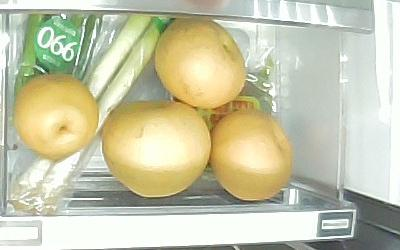pear: (101, 99, 213, 199), (154, 16, 248, 107), (208, 108, 294, 201), (12, 72, 99, 161)
